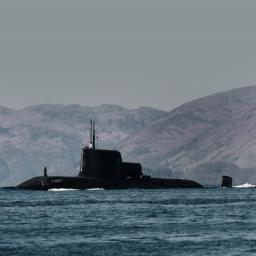submarine: (2, 117, 234, 191)
